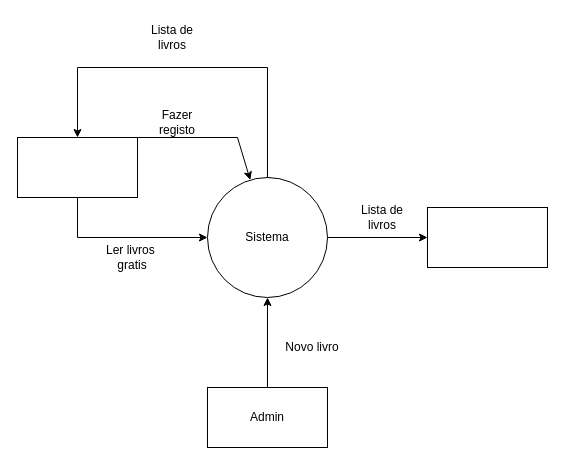
This 565x465 diagram has some shape labels left out. Here are the shapes that lost their labels. From the top down, the centre of each, then its label:
(x=77, y=167): Visitantes
(x=487, y=237): Utilizadores
